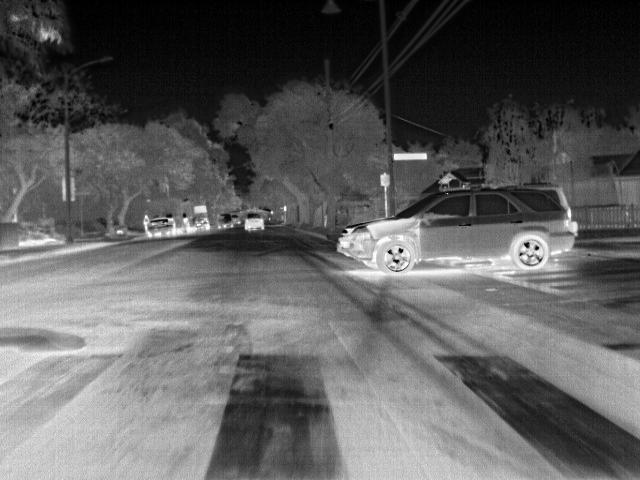car: (336, 184, 578, 280), (189, 210, 211, 232), (243, 211, 265, 231), (149, 216, 171, 236), (214, 212, 230, 228), (228, 212, 241, 225)
person: (140, 214, 151, 233), (169, 215, 178, 234), (182, 212, 190, 231)
